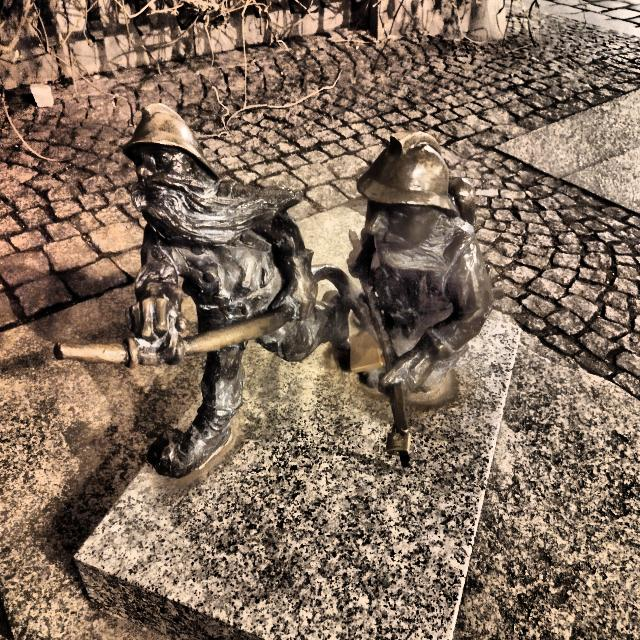Pozarki: (55, 104, 491, 479)
